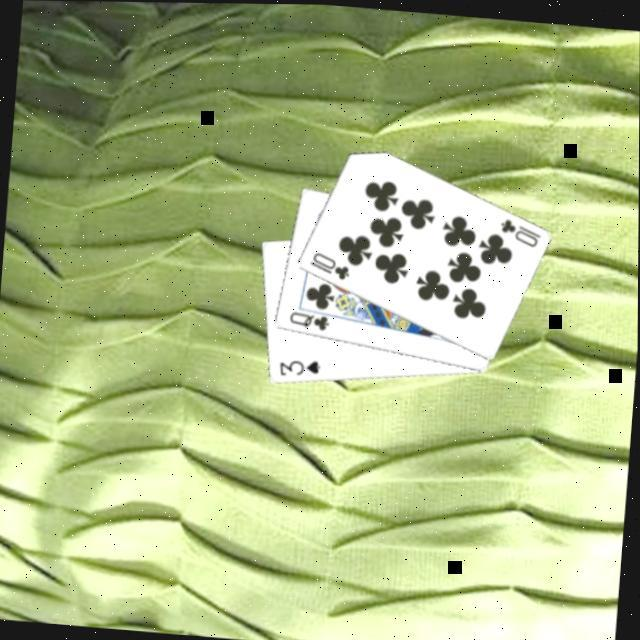10C: (493, 215, 542, 251), (303, 249, 351, 285)
3S: (273, 355, 321, 383)
QC: (283, 308, 330, 335)
